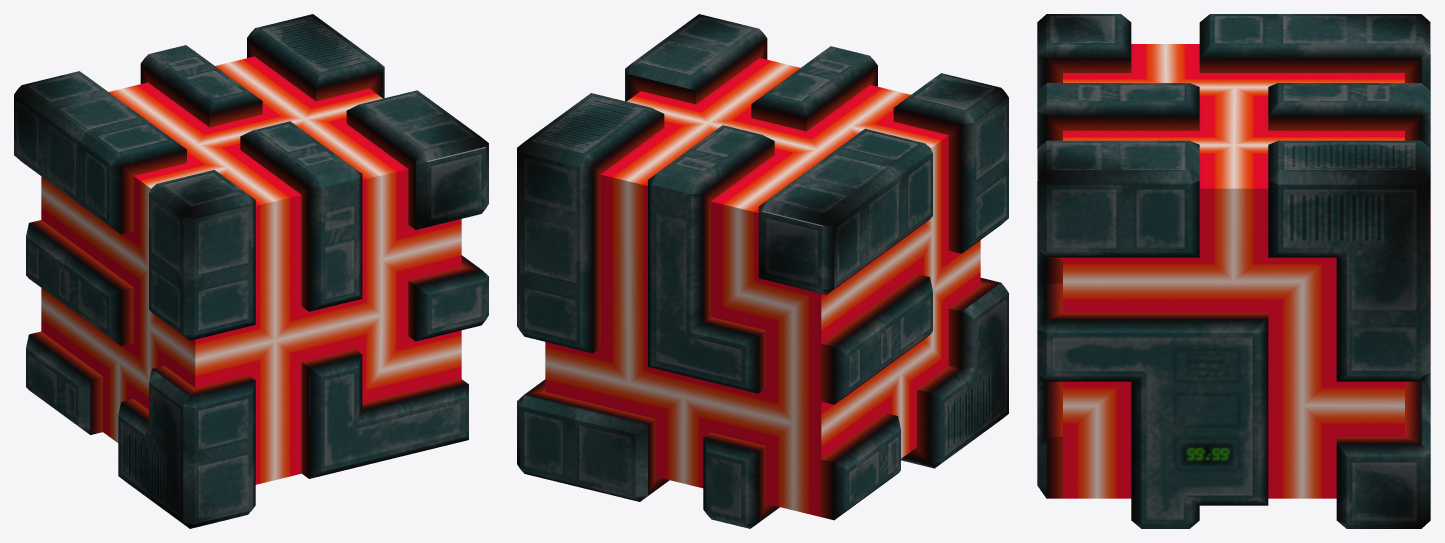
The model's file is item_weapon_02.fbx.
3 renders of one model, left to right at view 1: azimuth 30°, elevation 25°; view 2: azimuth 150°, elevation 25°; view 3: azimuth 270°, elevation 25°, orthographic. The views are drawn at different scales.
Parts seen in each view (by area): view 1: Artifact01; view 2: Artifact01; view 3: Artifact01.
Part boxes in pixels (x1,y1,x2,y2): Artifact01: (14, 14, 488, 528); Artifact01: (517, 14, 1008, 528); Artifact01: (1037, 14, 1430, 528).
Size of the model in its own units: 104 by 104 by 104.
